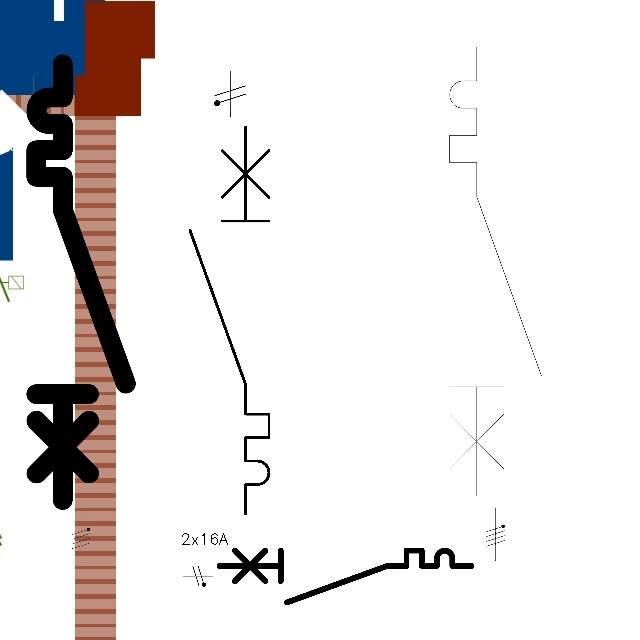interruptor_termomagnetico: (438, 35, 553, 507), (25, 53, 137, 511), (180, 117, 279, 524), (212, 544, 477, 609)
